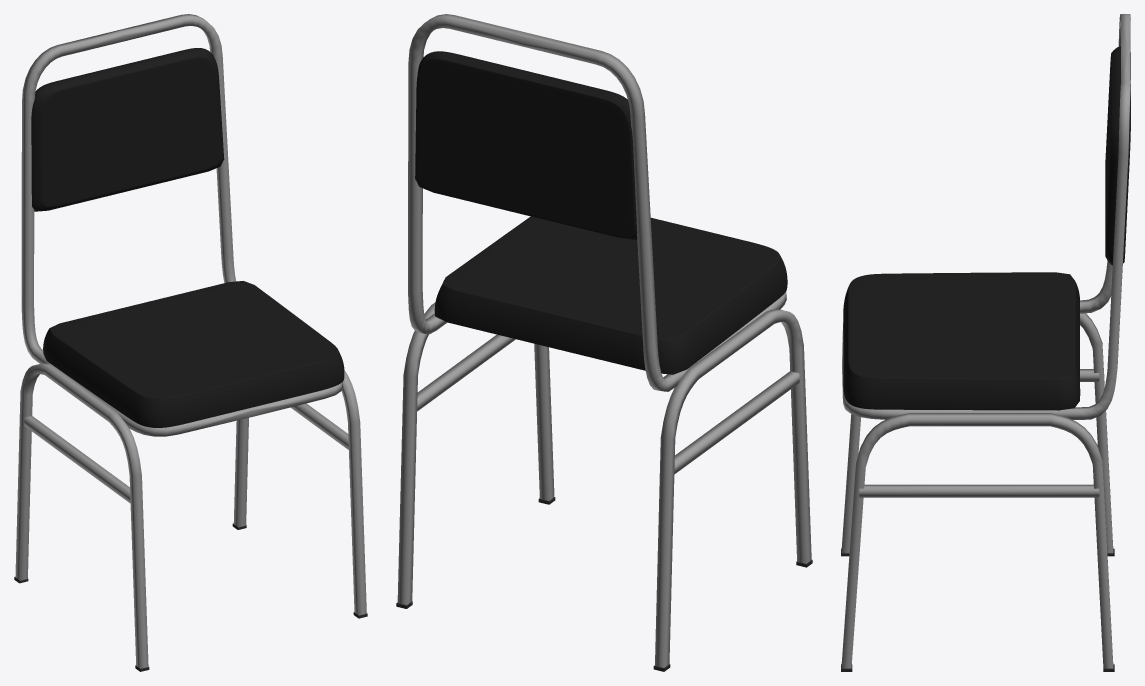
The model's file is chair.obj.
The picture shows the model from 3 angles, left to right: view 1: azimuth 30°, elevation 25°; view 2: azimuth 150°, elevation 25°; view 3: azimuth 270°, elevation 25°; orthographic projection. The views are drawn at different scales.
Visible parts, largest first — view 1: initialShadingGroup Mesh polySurface8, initialShadingGroup Mesh polySurface7, initialShadingGroup Mesh polySurface4, initialShadingGroup polySurface1 Mesh, initialShadingGroup Mesh polySurface3, initialShadingGroup Mesh polySurface2, initialShadingGroup Mesh polySurface5, initialShadingGroup Mesh polySurface6; view 2: initialShadingGroup Mesh polySurface8, initialShadingGroup Mesh polySurface7, initialShadingGroup Mesh polySurface4, initialShadingGroup polySurface1 Mesh, initialShadingGroup Mesh polySurface3, initialShadingGroup Mesh polySurface2, initialShadingGroup Mesh polySurface5, initialShadingGroup Mesh polySurface6; view 3: initialShadingGroup Mesh polySurface8, initialShadingGroup Mesh polySurface3, initialShadingGroup Mesh polySurface2, initialShadingGroup Mesh polySurface6, initialShadingGroup Mesh polySurface4, initialShadingGroup Mesh polySurface7, initialShadingGroup polySurface1 Mesh.
Part boxes in pixels (x1=…): initialShadingGroup Mesh polySurface8: x1=43, y1=281, x2=344, y2=427; initialShadingGroup Mesh polySurface7: x1=31, y1=48, x2=224, y2=211; initialShadingGroup Mesh polySurface4: x1=15, y1=363, x2=148, y2=668; initialShadingGroup polySurface1 Mesh: x1=21, y1=30, x2=252, y2=436; initialShadingGroup Mesh polySurface3: x1=233, y1=370, x2=366, y2=615; initialShadingGroup Mesh polySurface2: x1=119, y1=14, x2=342, y2=416; initialShadingGroup Mesh polySurface5: x1=24, y1=416, x2=130, y2=503; initialShadingGroup Mesh polySurface6: x1=290, y1=403, x2=348, y2=449; initialShadingGroup Mesh polySurface8: x1=434, y1=216, x2=787, y2=374; initialShadingGroup Mesh polySurface7: x1=415, y1=51, x2=637, y2=239; initialShadingGroup Mesh polySurface4: x1=655, y1=309, x2=811, y2=667; initialShadingGroup polySurface1 Mesh: x1=523, y1=33, x2=786, y2=391; initialShadingGroup Mesh polySurface3: x1=397, y1=302, x2=554, y2=605; initialShadingGroup Mesh polySurface2: x1=408, y1=14, x2=527, y2=334; initialShadingGroup Mesh polySurface5: x1=674, y1=371, x2=799, y2=474; initialShadingGroup Mesh polySurface6: x1=417, y1=334, x2=515, y2=411; initialShadingGroup Mesh polySurface8: x1=843, y1=272, x2=1080, y2=410; initialShadingGroup Mesh polySurface3: x1=841, y1=413, x2=1113, y2=668; initialShadingGroup Mesh polySurface2: x1=842, y1=50, x2=1130, y2=419; initialShadingGroup Mesh polySurface6: x1=859, y1=484, x2=1099, y2=497; initialShadingGroup Mesh polySurface4: x1=841, y1=313, x2=1113, y2=553; initialShadingGroup Mesh polySurface7: x1=1105, y1=46, x2=1130, y2=265; initialShadingGroup polySurface1 Mesh: x1=842, y1=14, x2=1130, y2=359.
Size of the model in its own units: 1.09 by 2.37 by 1.11.
2 materials, 2 textured.
